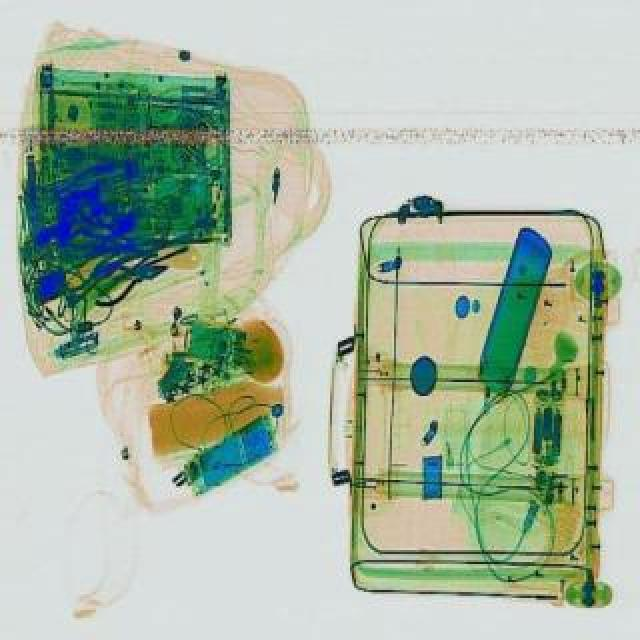wrench: (80, 246, 176, 310)
